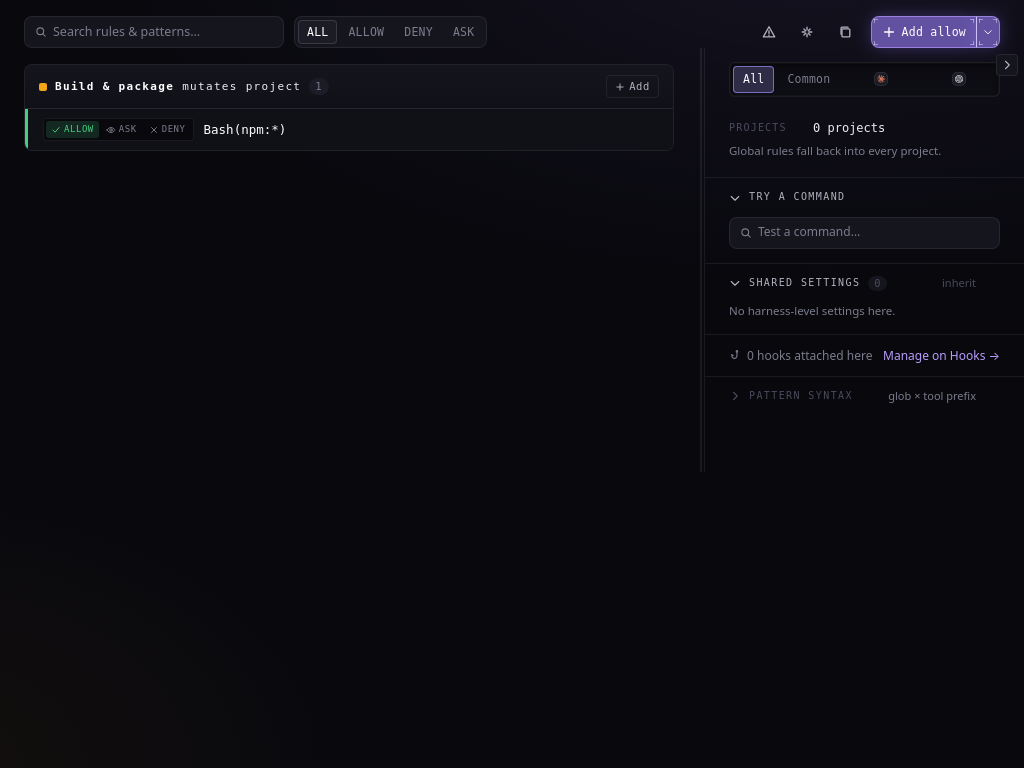
Test: PermissionsSidePanel — Codex trust plaque (c) › does not render for global scope
Expected: the field showing "Bash(npm:*)" is shown, [204,121,610,139]
Click the button named "Codex": (959, 79) [921,67,996,91]
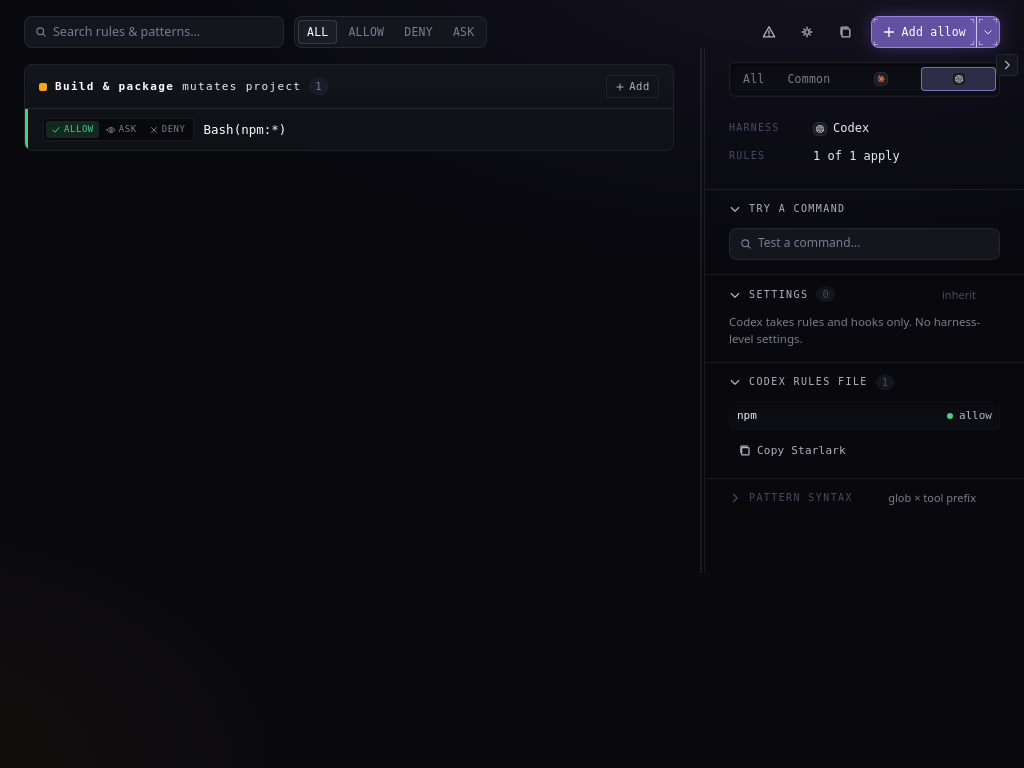
Expected: the element with test id "codex-rules-preview" is shown, [729,402,1000,464]
